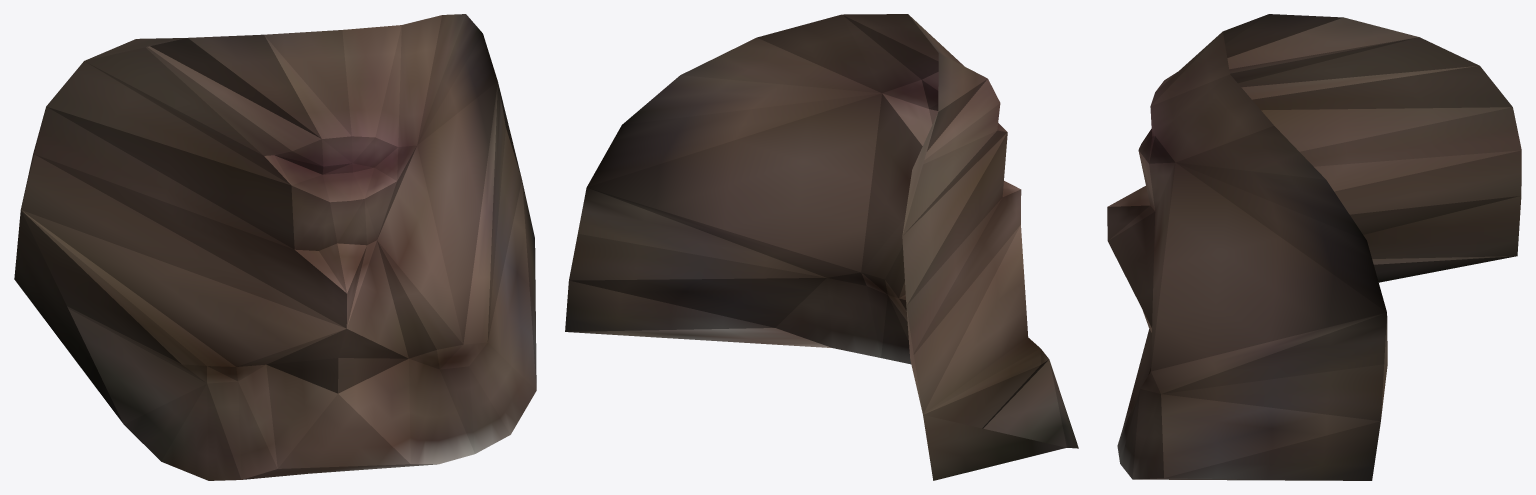
File: real_66259.obj
3 views of the same model, side by side, from view 1: azimuth 30°, elevation 25°; view 2: azimuth 150°, elevation 25°; view 3: azimuth 270°, elevation 25° (orthographic). The views are drawn at different scales.
Bounding box in the file's own units: 109 × 92 × 87.63.
